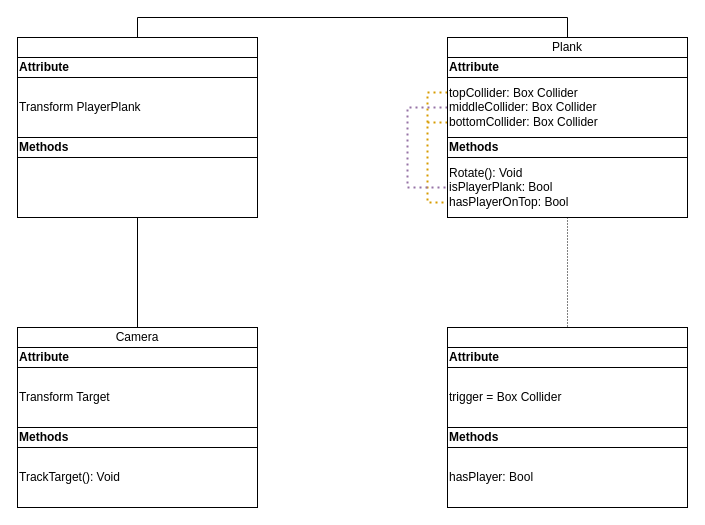
The diagram is 705 pixels wide and 525 high, and some of its shapes have lost their labels. Each missing label, with the centre of its shape:
"Move(): Void RotatePlank(): Void" belongs at (137,187).
"Plank Pivots" belongs at (567,337).
"Player" belongs at (137,47).
